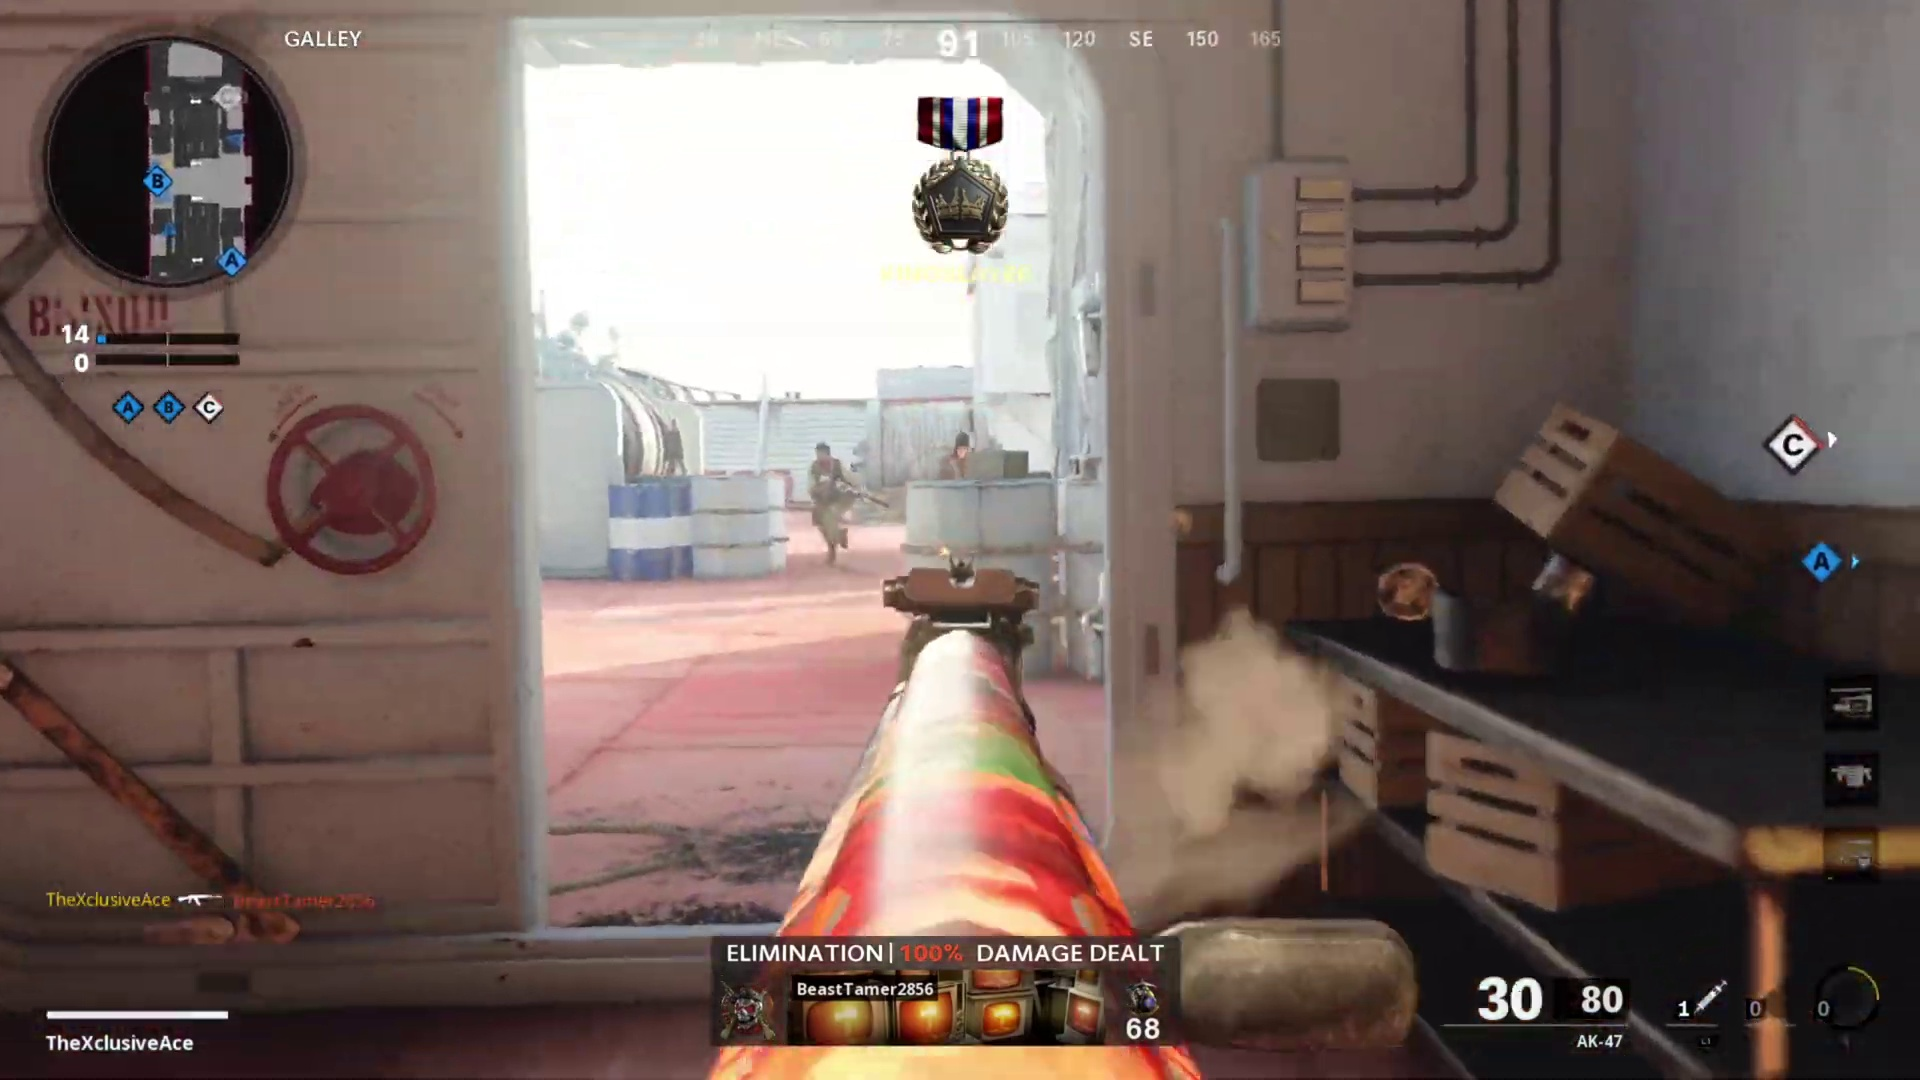head: (949, 429, 974, 460), (811, 439, 835, 472)
person: (805, 438, 871, 565), (934, 430, 971, 478)
